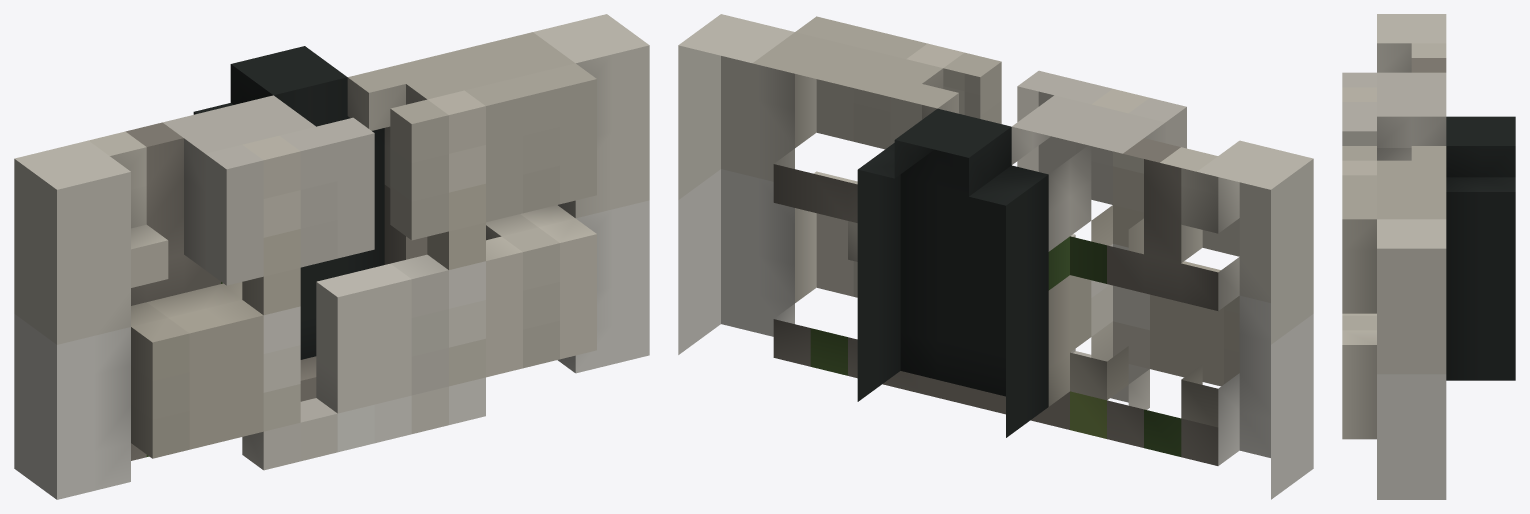
File: wall_window_0.glb
3 views of the same model, side by side, from view 1: azimuth 30°, elevation 25°; view 2: azimuth 150°, elevation 25°; view 3: azimuth 270°, elevation 25° (orthographic). The views are drawn at different scales.
Visible parts, largest first — view 1: wall_window_0; view 2: wall_window_0; view 3: wall_window_0.
Boxes of the visible parts, x1=… form: wall_window_0: x1=14, y1=14, x2=649, y2=499; wall_window_0: x1=678, y1=14, x2=1313, y2=499; wall_window_0: x1=1342, y1=14, x2=1515, y2=499.
Size of the model in its own units: 1 by 0.5 by 0.3125.
